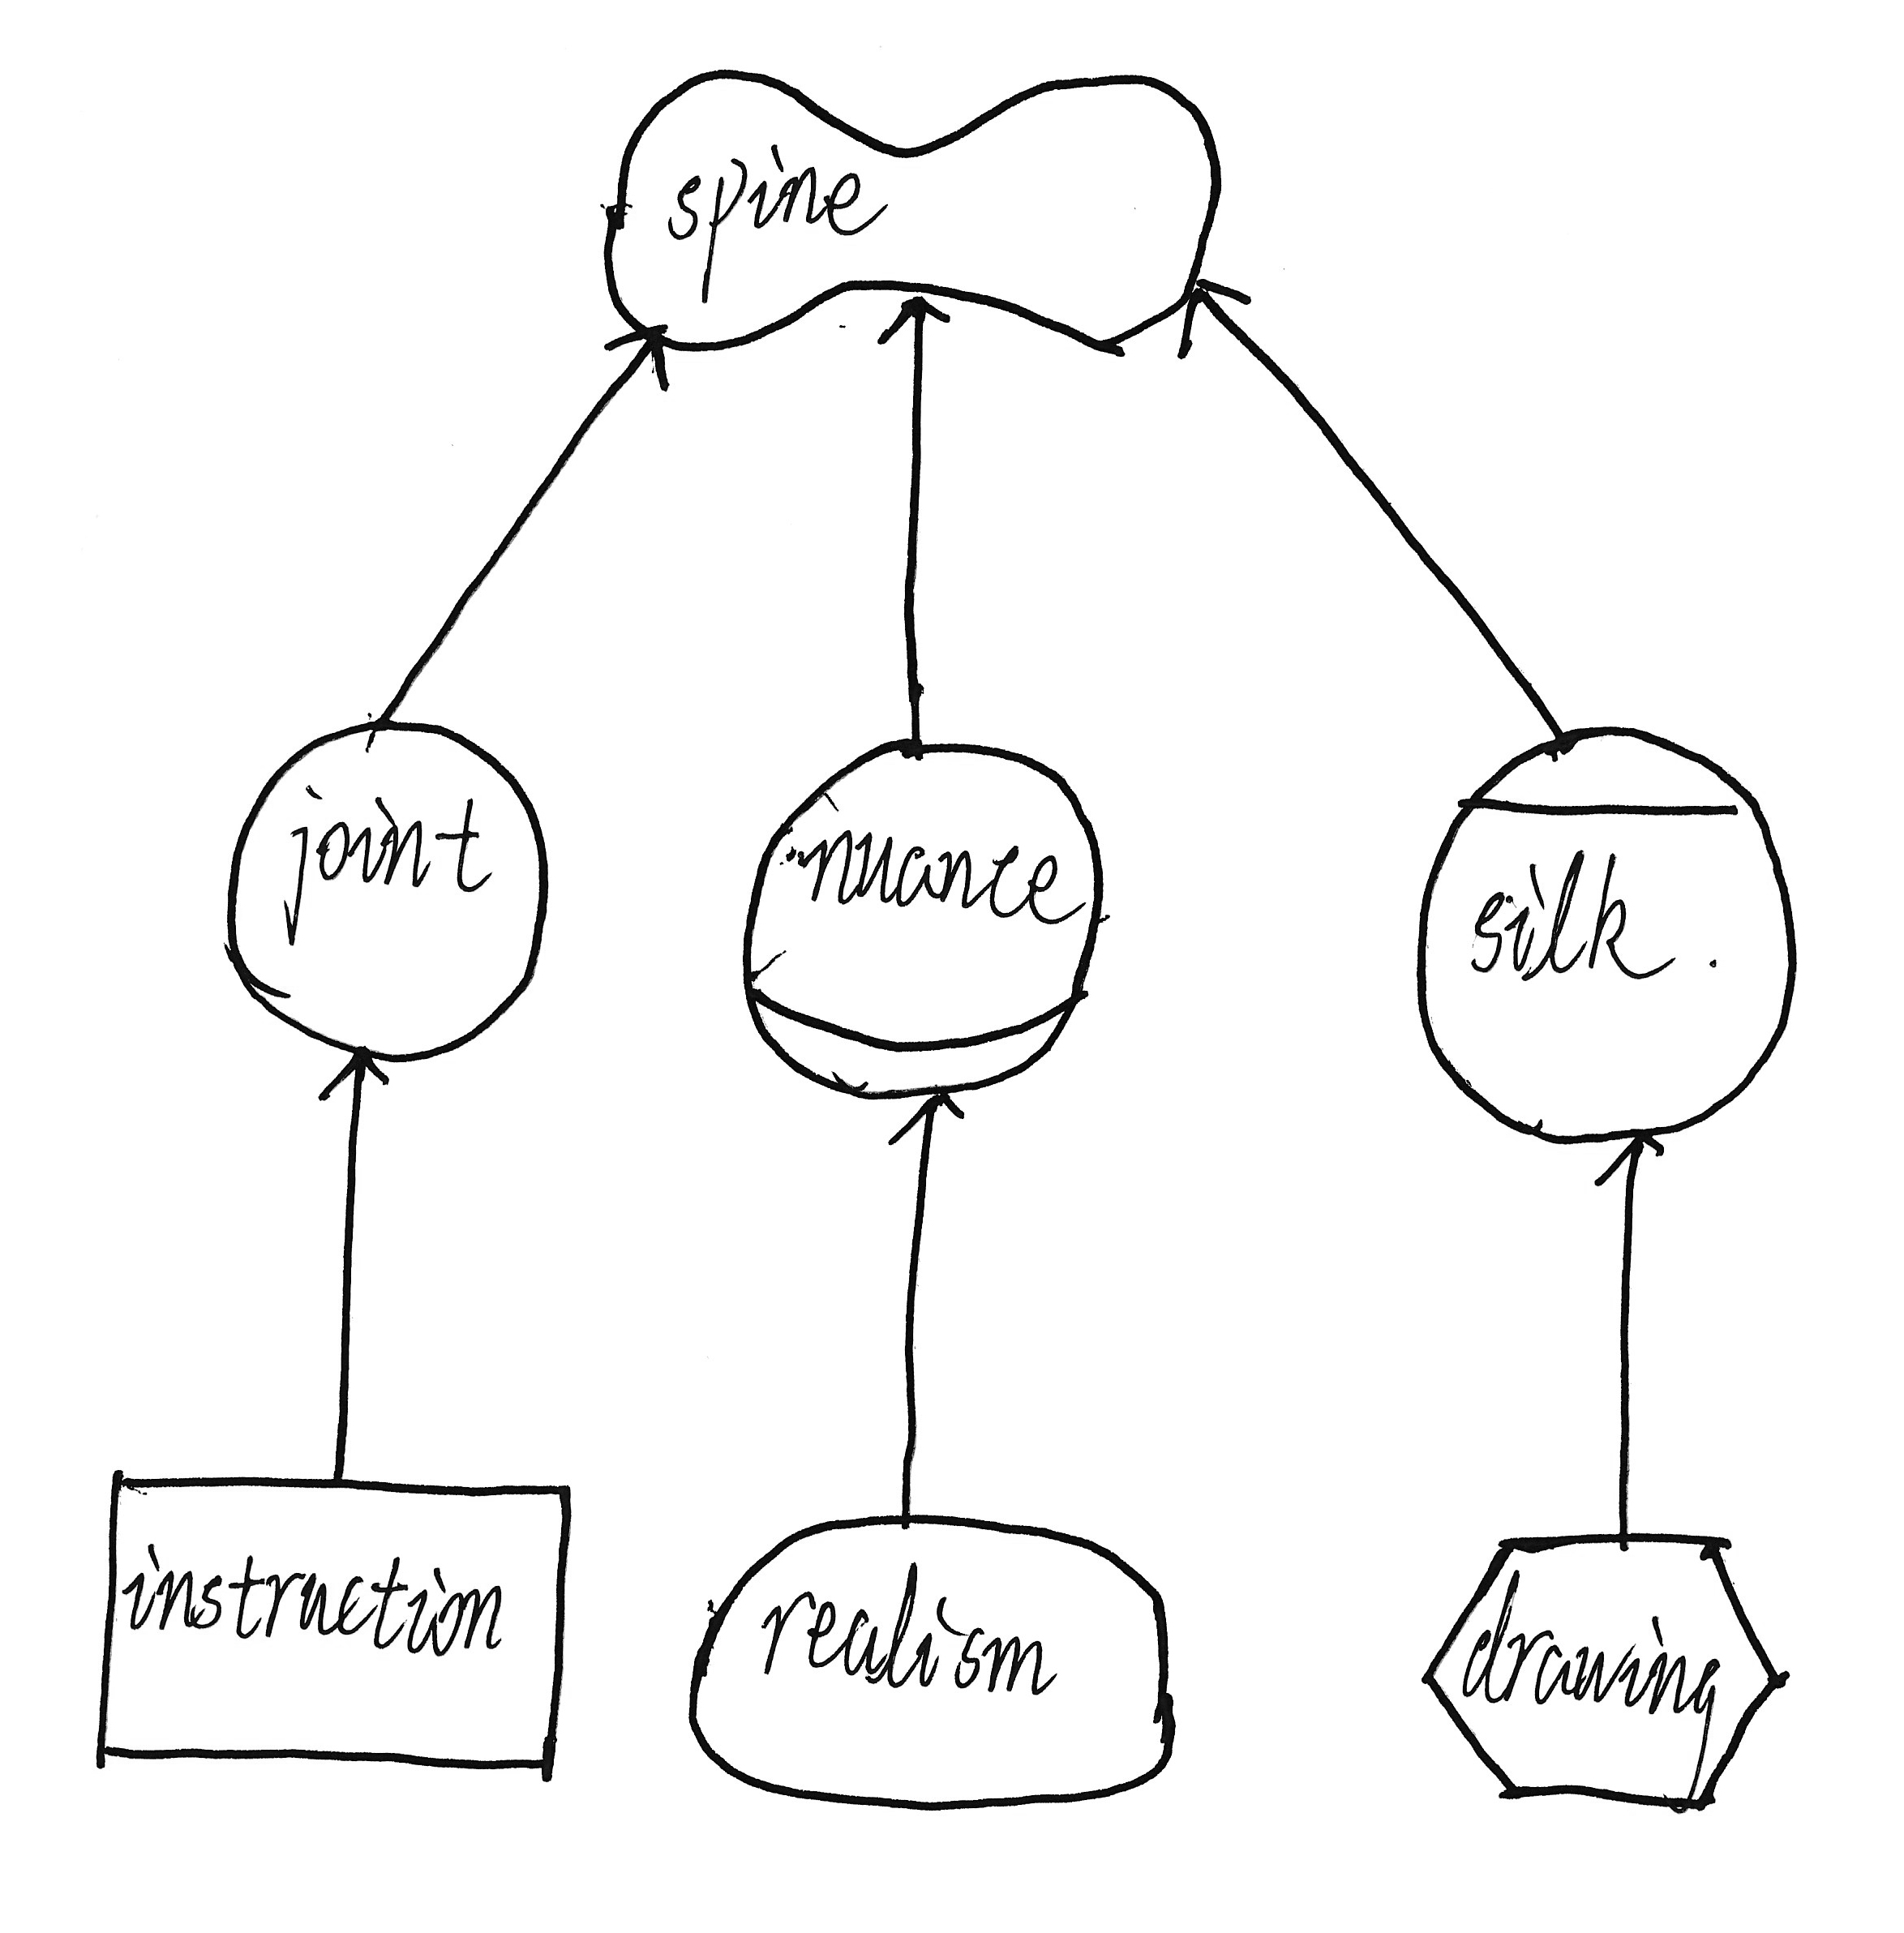actor: (202, 699, 572, 1079)
agent: (1388, 709, 1820, 1159)
arrow: (1165, 268, 1262, 370), (591, 315, 687, 411), (881, 1079, 985, 1164), (868, 284, 975, 361), (307, 1037, 405, 1110), (1581, 1133, 1683, 1199)
goal: (668, 1487, 1196, 1828)
quality: (588, 45, 1241, 366)
resource: (75, 1448, 593, 1808)
role: (722, 713, 1126, 1114)
task: (1400, 1504, 1801, 1837)
